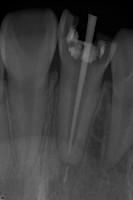Furcation Involvement: (59, 159, 83, 185)
